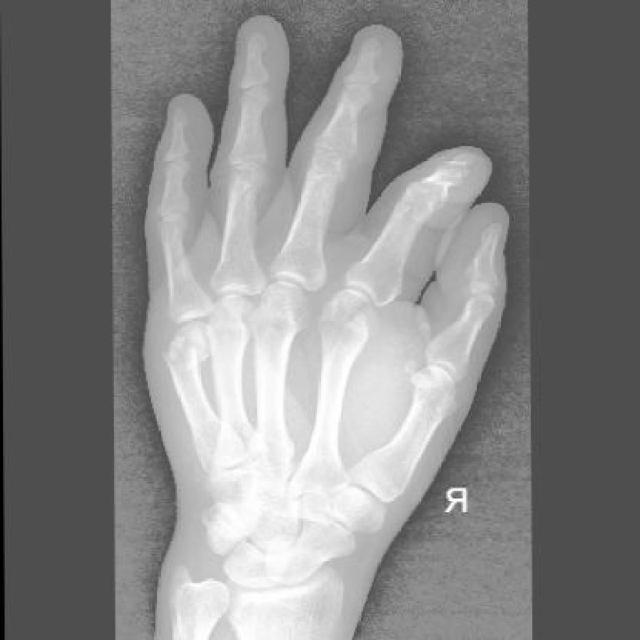Fracture: (156, 334, 207, 377)
